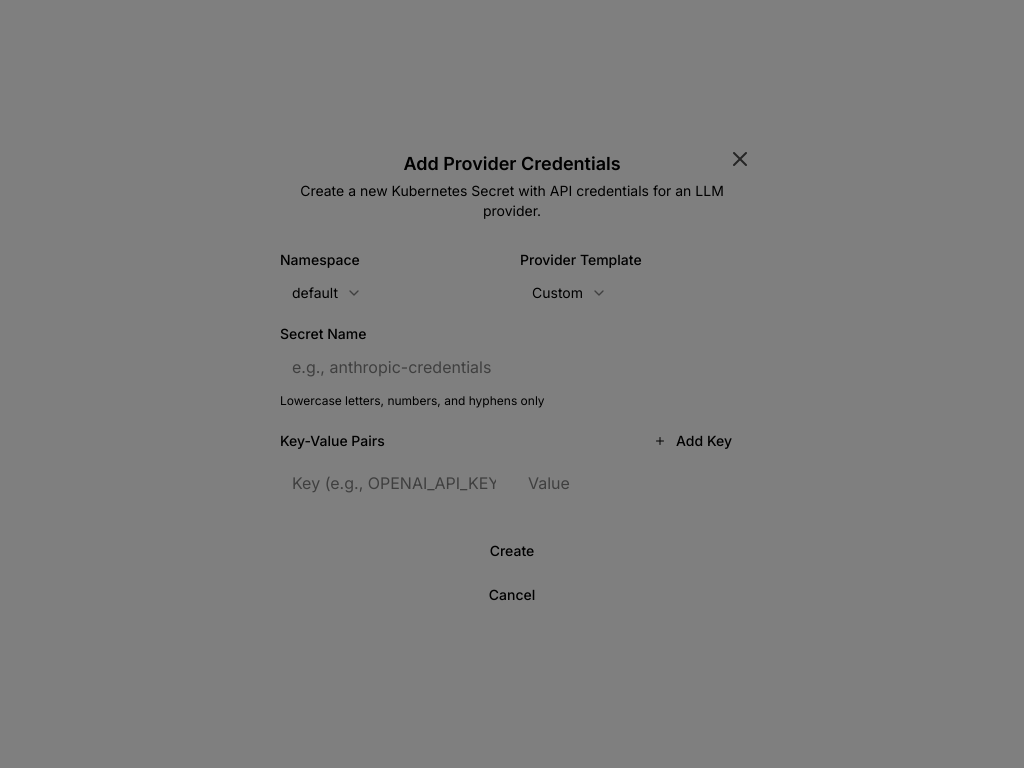
Test case: AddCredentialSecretDialog › shows namespaces from useNamespaces in the namespace select
Click the dropdown named "Namespace" at [327, 293], box [280,275,374,311]
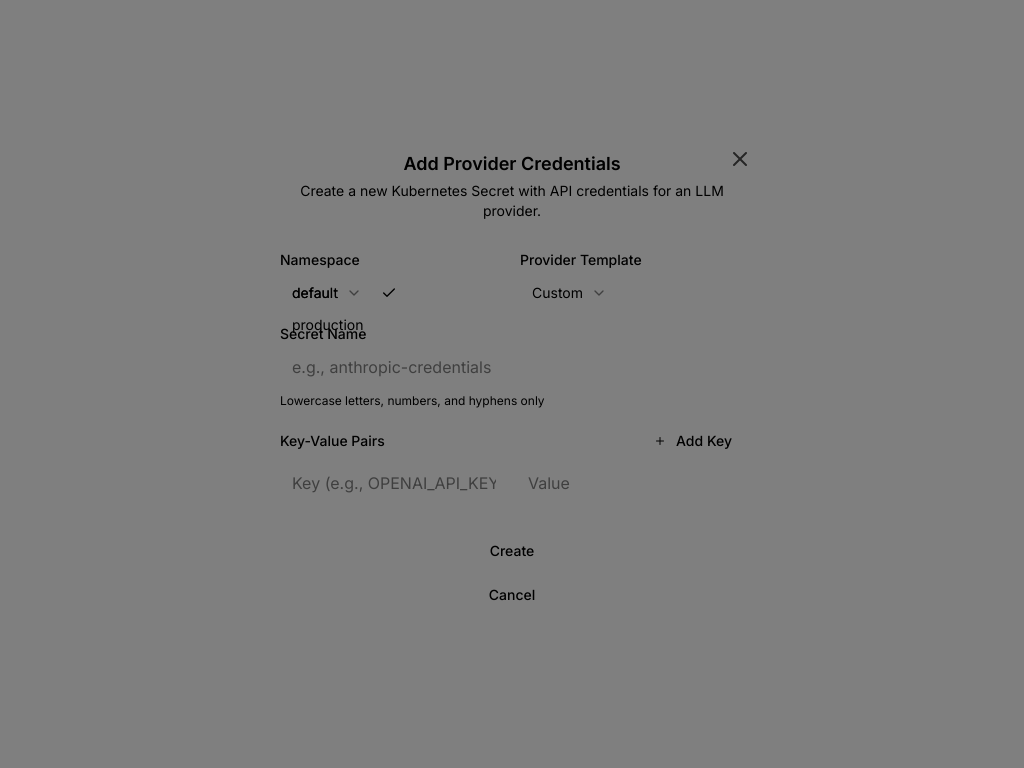
Check: the option "production" is shown, box [292,316,364,333]
